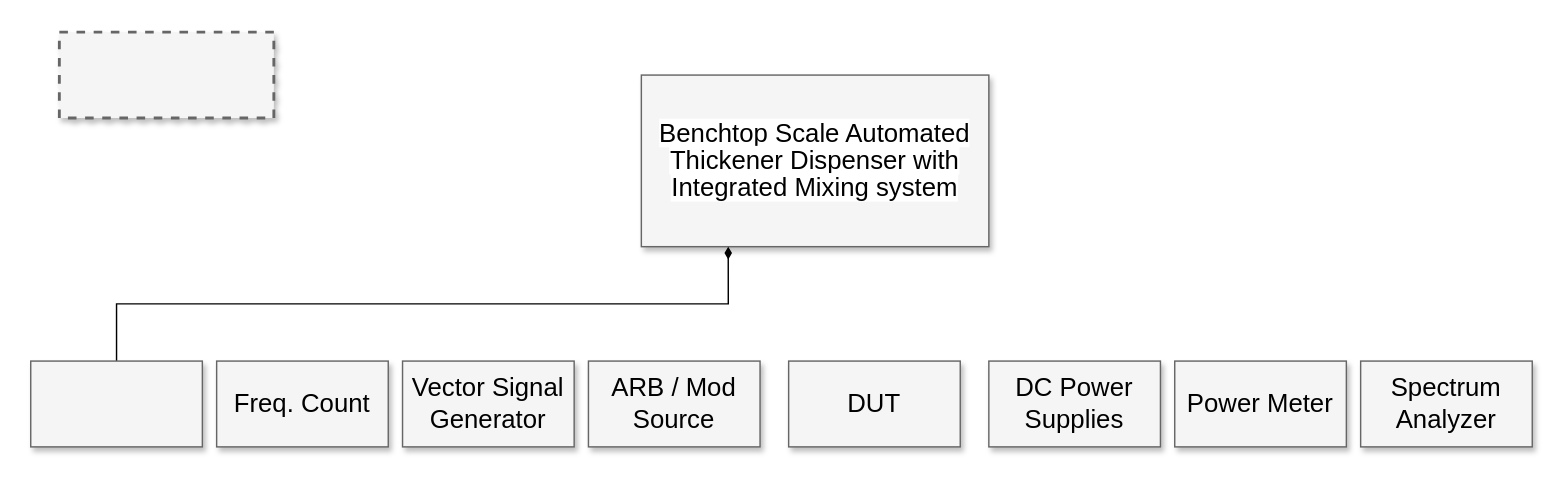
Image size: 1566x482. Some labels were removed from this diagram. The centre of each missing label's shape, as x and y in pixels:
Network Analyzer: (x=117, y=405)
Software Control: (x=167, y=76)
